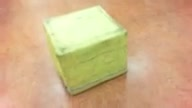cube: (41, 4, 129, 95)
